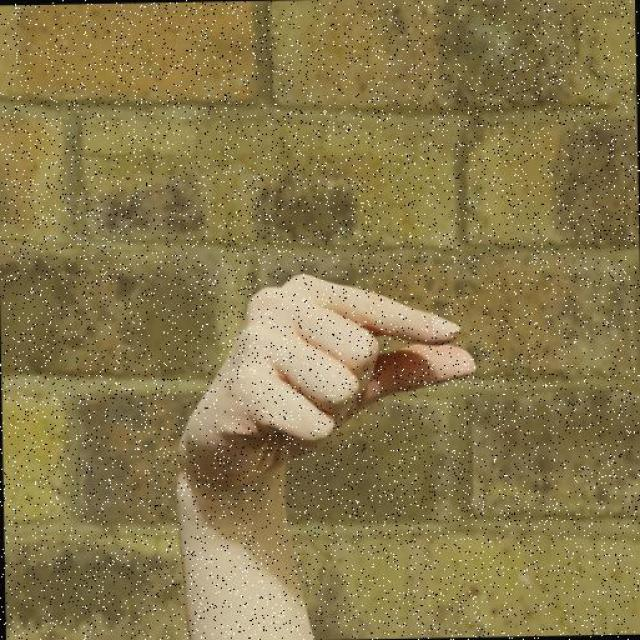G: (172, 268, 482, 491)
